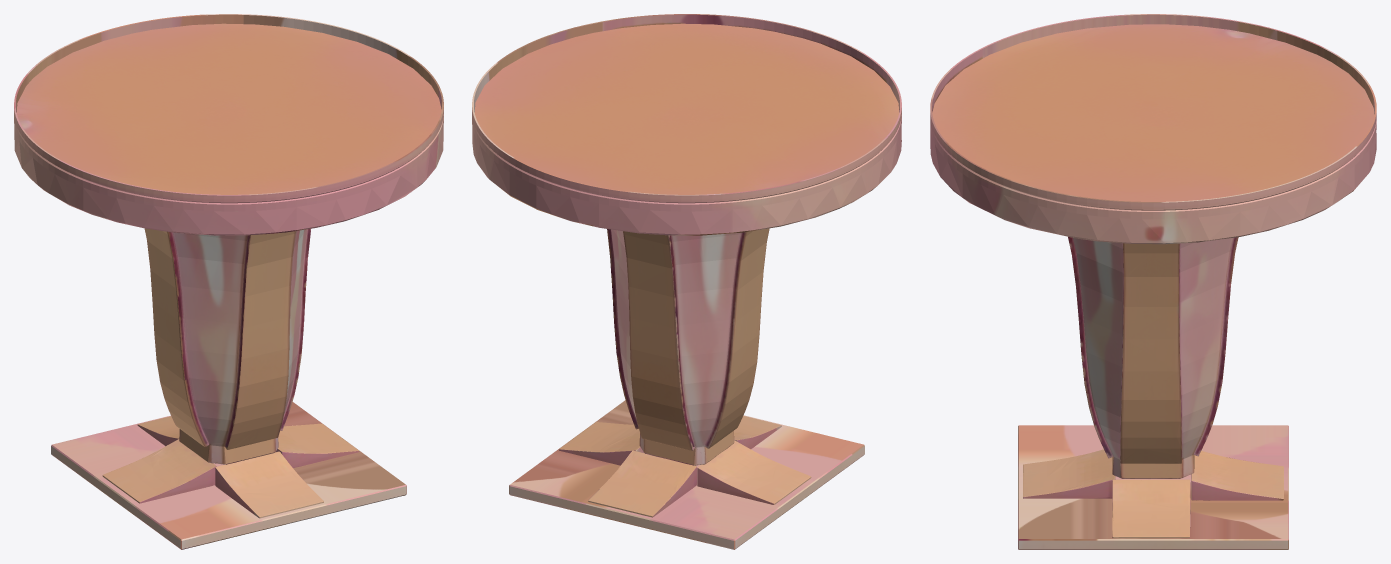
Rendered from edited_mesh.glb.
3 renders of one model, left to right at view 1: azimuth 30°, elevation 25°; view 2: azimuth 150°, elevation 25°; view 3: azimuth 270°, elevation 25°, orthographic. The views are drawn at different scales.
Parts seen in each view (by area): view 1: solid_001_wire; view 2: solid_001_wire; view 3: solid_001_wire.
Part boxes in pixels (box(x1,y1,x2,y2)): solid_001_wire: box(14, 14, 443, 549); solid_001_wire: box(472, 14, 901, 549); solid_001_wire: box(930, 14, 1376, 549).
Size of the model in its own units: 1.38 by 1.31 by 1.38.
Materials: 1 (1 with a texture image).
